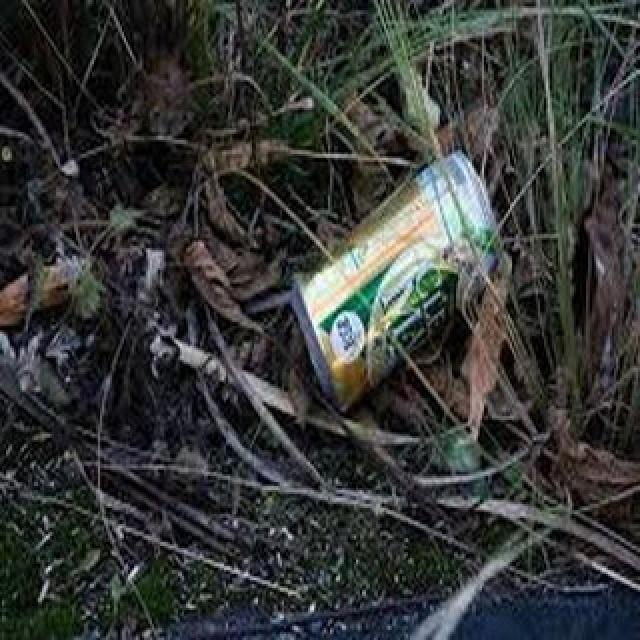can: (290, 150, 499, 406)
